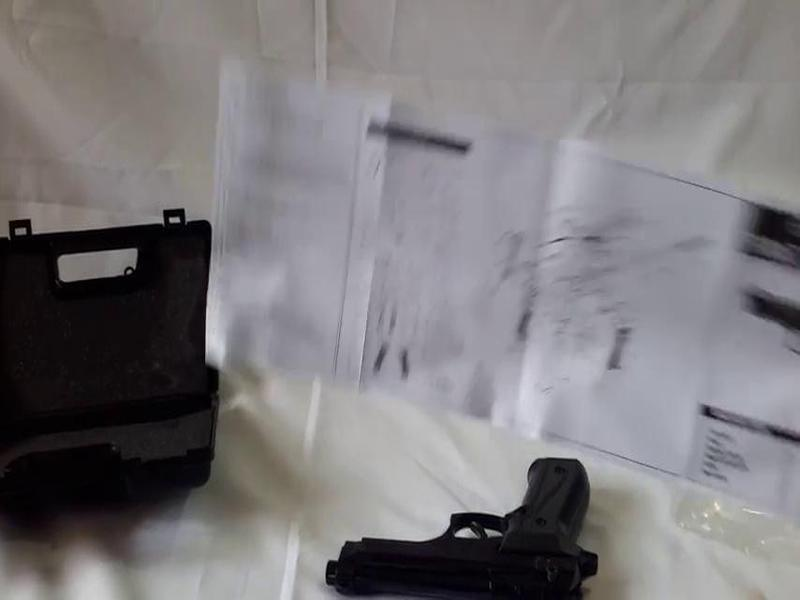Pistola: (304, 428, 621, 600)
